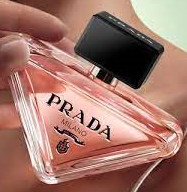prada_paradoxe: (4, 10, 185, 185)
